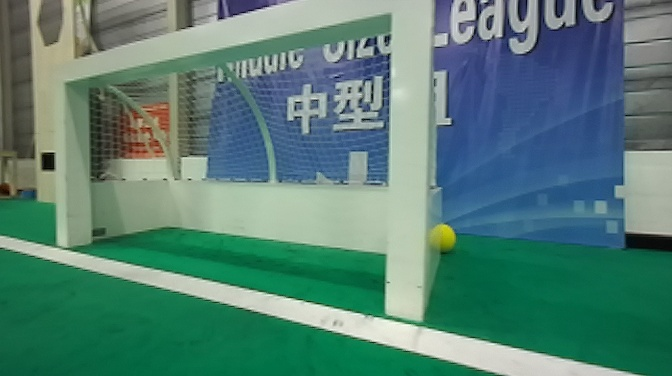ball: (426, 221, 457, 257)
goalpost: (384, 1, 437, 320), (45, 59, 101, 249)
